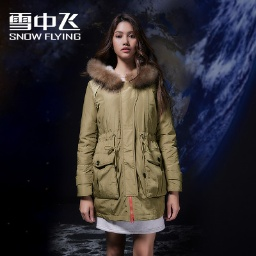face: (97, 15, 153, 70)
